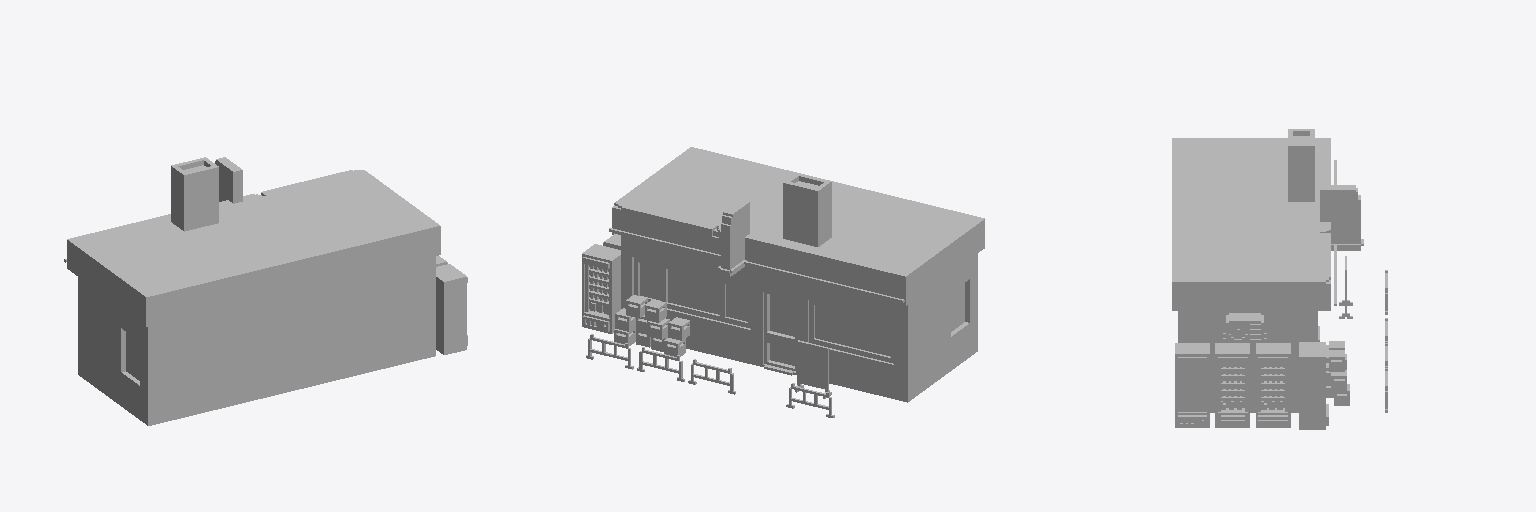
File: shop1.obj
3 renders of one model, left to right at view 1: azimuth 30°, elevation 25°; view 2: azimuth 150°, elevation 25°; view 3: azimuth 270°, elevation 25°, orthographic.
Visible parts, largest first — view 1: ShopBuilding_1; view 2: ShopBuilding_1; view 3: ShopBuilding_1.
Part boxes in pixels (x1,y1,x2,y2): ShopBuilding_1: (64, 157, 467, 425); ShopBuilding_1: (582, 147, 984, 417); ShopBuilding_1: (1172, 129, 1387, 429).
Bounding box in the file's own units: 11.2 × 6.16 × 6.4.